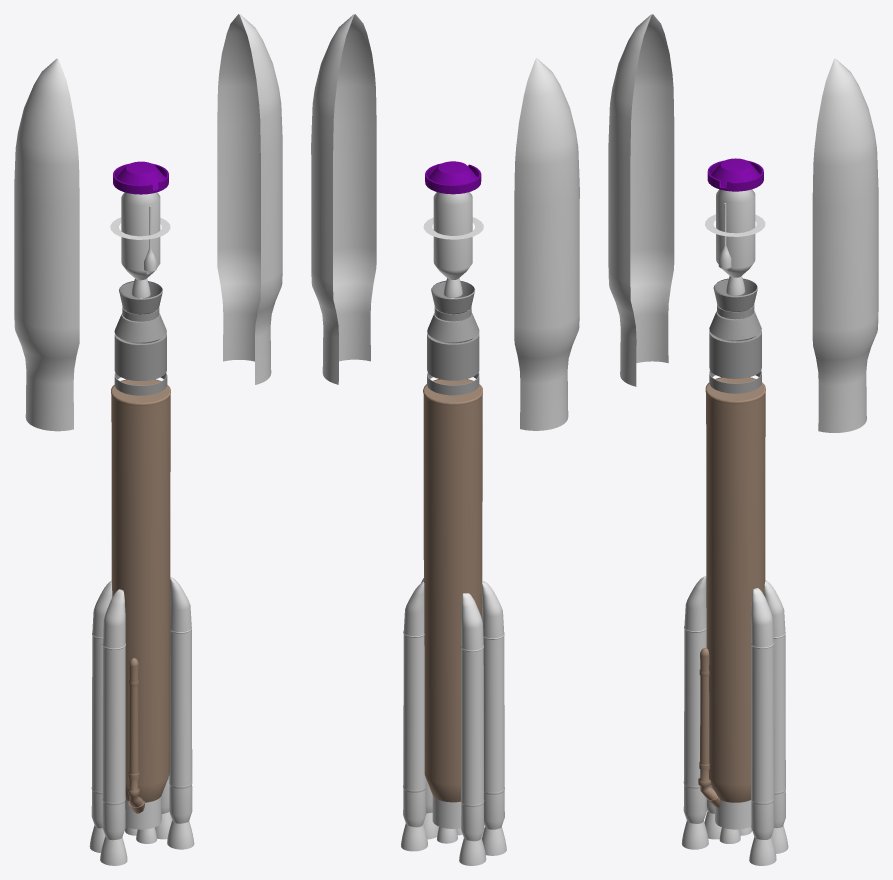
3 renders of one model, left to right at view 1: azimuth 30°, elevation 25°; view 2: azimuth 150°, elevation 25°; view 3: azimuth 330°, elevation 25°, orthographic.
Visible parts, largest first — view 1: Rocket_Shell_Geo_01, Stage_01_Rocket_Base_Geo, Rocket_Shell_Geo_02, Rocker_Booster_Geo_01, Rocker_Booster_Geo_02, Centaur_Rocket_Geo, Rocker_Booster_Geo_03, Rocket_Part_Geo_02, Payload_Geo1, Stage_01_Part_Geo_01, Rocket_Part_Geo_03, Rocket_Part_Geo_05 (+4 smaller); view 2: Rocket_Shell_Geo_01, Rocket_Shell_Geo_02, Stage_01_Rocket_Base_Geo, Rocker_Booster_Geo_03, Rocker_Booster_Geo_04, Rocker_Booster_Geo_01, Centaur_Rocket_Geo, Rocket_Part_Geo_02, Payload_Geo1, Rocket_Part_Geo_03, Rocket_Part_Geo_05, Stage_01_Engine_Part_Geo (+4 smaller); view 3: Stage_01_Rocket_Base_Geo, Rocket_Shell_Geo_02, Rocket_Shell_Geo_01, Rocker_Booster_Geo_02, Rocker_Booster_Geo_01, Rocker_Booster_Geo_04, Centaur_Rocket_Geo, Rocket_Part_Geo_02, Payload_Geo1, Stage_01_Part_Geo_01, Rocket_Part_Geo_03, Rocket_Part_Geo_05 (+4 smaller).
Part boxes in pixels (box(x1,y1,x2,y2)): Rocket_Shell_Geo_01: box(14, 58, 79, 431); Stage_01_Rocket_Base_Geo: box(111, 379, 170, 802); Rocket_Shell_Geo_02: box(217, 14, 282, 384); Rocker_Booster_Geo_01: box(102, 589, 125, 840); Rocker_Booster_Geo_02: box(169, 577, 192, 823); Centaur_Rocket_Geo: box(121, 192, 160, 280); Rocker_Booster_Geo_03: box(91, 581, 112, 828); Rocket_Part_Geo_02: box(114, 333, 166, 380); Payload_Geo1: box(113, 161, 168, 194); Stage_01_Part_Geo_01: box(128, 658, 139, 779); Rocket_Part_Geo_03: box(114, 310, 166, 342); Rocket_Part_Geo_05: box(119, 281, 162, 313); Rocket_Shell_Geo_01: box(514, 58, 579, 430); Rocket_Shell_Geo_02: box(311, 14, 376, 384); Stage_01_Rocket_Base_Geo: box(423, 379, 482, 802); Rocker_Booster_Geo_03: box(460, 593, 484, 841); Rocker_Booster_Geo_04: box(403, 581, 426, 827); Rocker_Booster_Geo_01: box(481, 581, 504, 829); Centaur_Rocket_Geo: box(433, 192, 472, 279); Rocket_Part_Geo_02: box(427, 332, 479, 380); Payload_Geo1: box(425, 161, 481, 194); Rocket_Part_Geo_03: box(427, 310, 479, 342); Rocket_Part_Geo_05: box(431, 280, 474, 313); Stage_01_Engine_Part_Geo: box(432, 795, 461, 828); Stage_01_Rocket_Base_Geo: box(705, 377, 765, 802); Rocket_Shell_Geo_02: box(812, 58, 878, 432); Rocket_Shell_Geo_01: box(608, 14, 674, 386); Rocker_Booster_Geo_02: box(751, 588, 774, 839); Rocker_Booster_Geo_01: box(683, 576, 706, 823); Rocker_Booster_Geo_04: box(764, 580, 785, 828); Centaur_Rocket_Geo: box(716, 189, 755, 277); Rocket_Part_Geo_02: box(709, 330, 761, 378); Payload_Geo1: box(707, 158, 763, 191); Stage_01_Part_Geo_01: box(699, 648, 709, 770); Rocket_Part_Geo_03: box(709, 308, 761, 340); Rocket_Part_Geo_05: box(713, 278, 757, 311).
Size of the model in its own units: 5.22 by 15.69 by 1.54.
